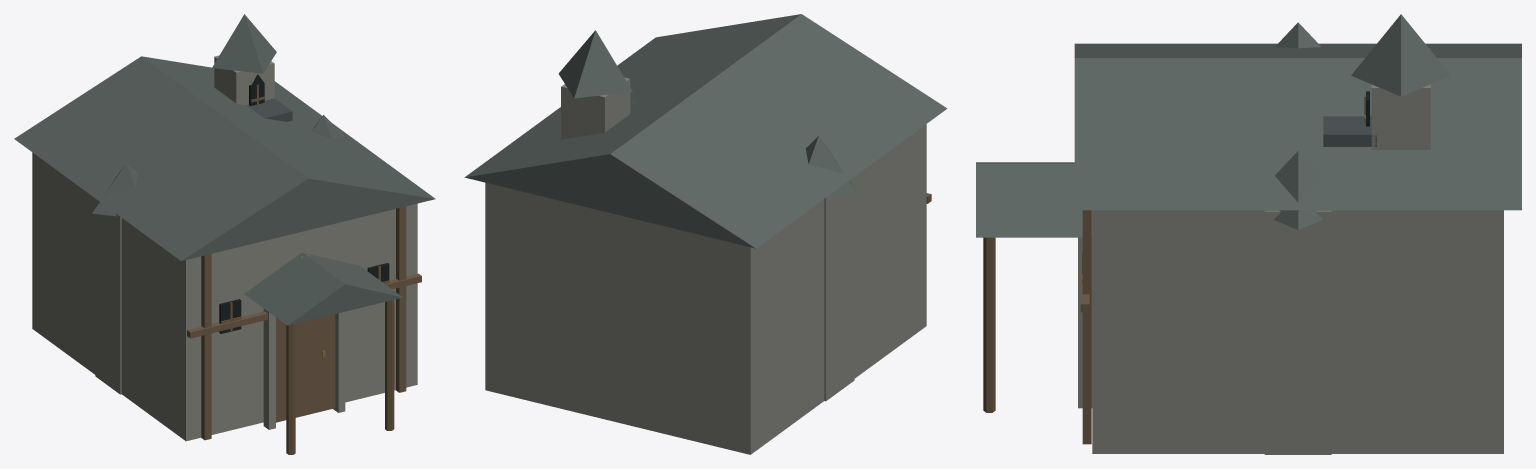
The model's file is cathedral.glb.
3 views of the same model, side by side, from view 1: azimuth 30°, elevation 25°; view 2: azimuth 150°, elevation 25°; view 3: azimuth 270°, elevation 25° (orthographic). The views are drawn at different scales.
Parts seen in each view (by area): view 1: VIL_CATHEDRAL_CHAPEL, VIL_CATHEDRAL_GATE, VIL_CATHEDRAL_WORKSHOP; view 2: VIL_CATHEDRAL_CHAPEL, VIL_CATHEDRAL_GATE; view 3: VIL_CATHEDRAL_CHAPEL, VIL_CATHEDRAL_GATE, VIL_CATHEDRAL_WORKSHOP.
Boxes of the visible parts, left/top/right/bottom form: VIL_CATHEDRAL_CHAPEL: left=14, top=14, right=435, bottom=454; VIL_CATHEDRAL_GATE: left=92, top=115, right=345, bottom=394; VIL_CATHEDRAL_WORKSHOP: left=246, top=98, right=292, bottom=121; VIL_CATHEDRAL_CHAPEL: left=464, top=14, right=947, bottom=454; VIL_CATHEDRAL_GATE: left=805, top=136, right=857, bottom=401; VIL_CATHEDRAL_CHAPEL: left=976, top=14, right=1521, bottom=453; VIL_CATHEDRAL_GATE: left=1264, top=22, right=1331, bottom=454; VIL_CATHEDRAL_WORKSHOP: left=1323, top=116, right=1376, bottom=146.
Size of the model in its own units: 4.6 by 5.02 by 6.1.
